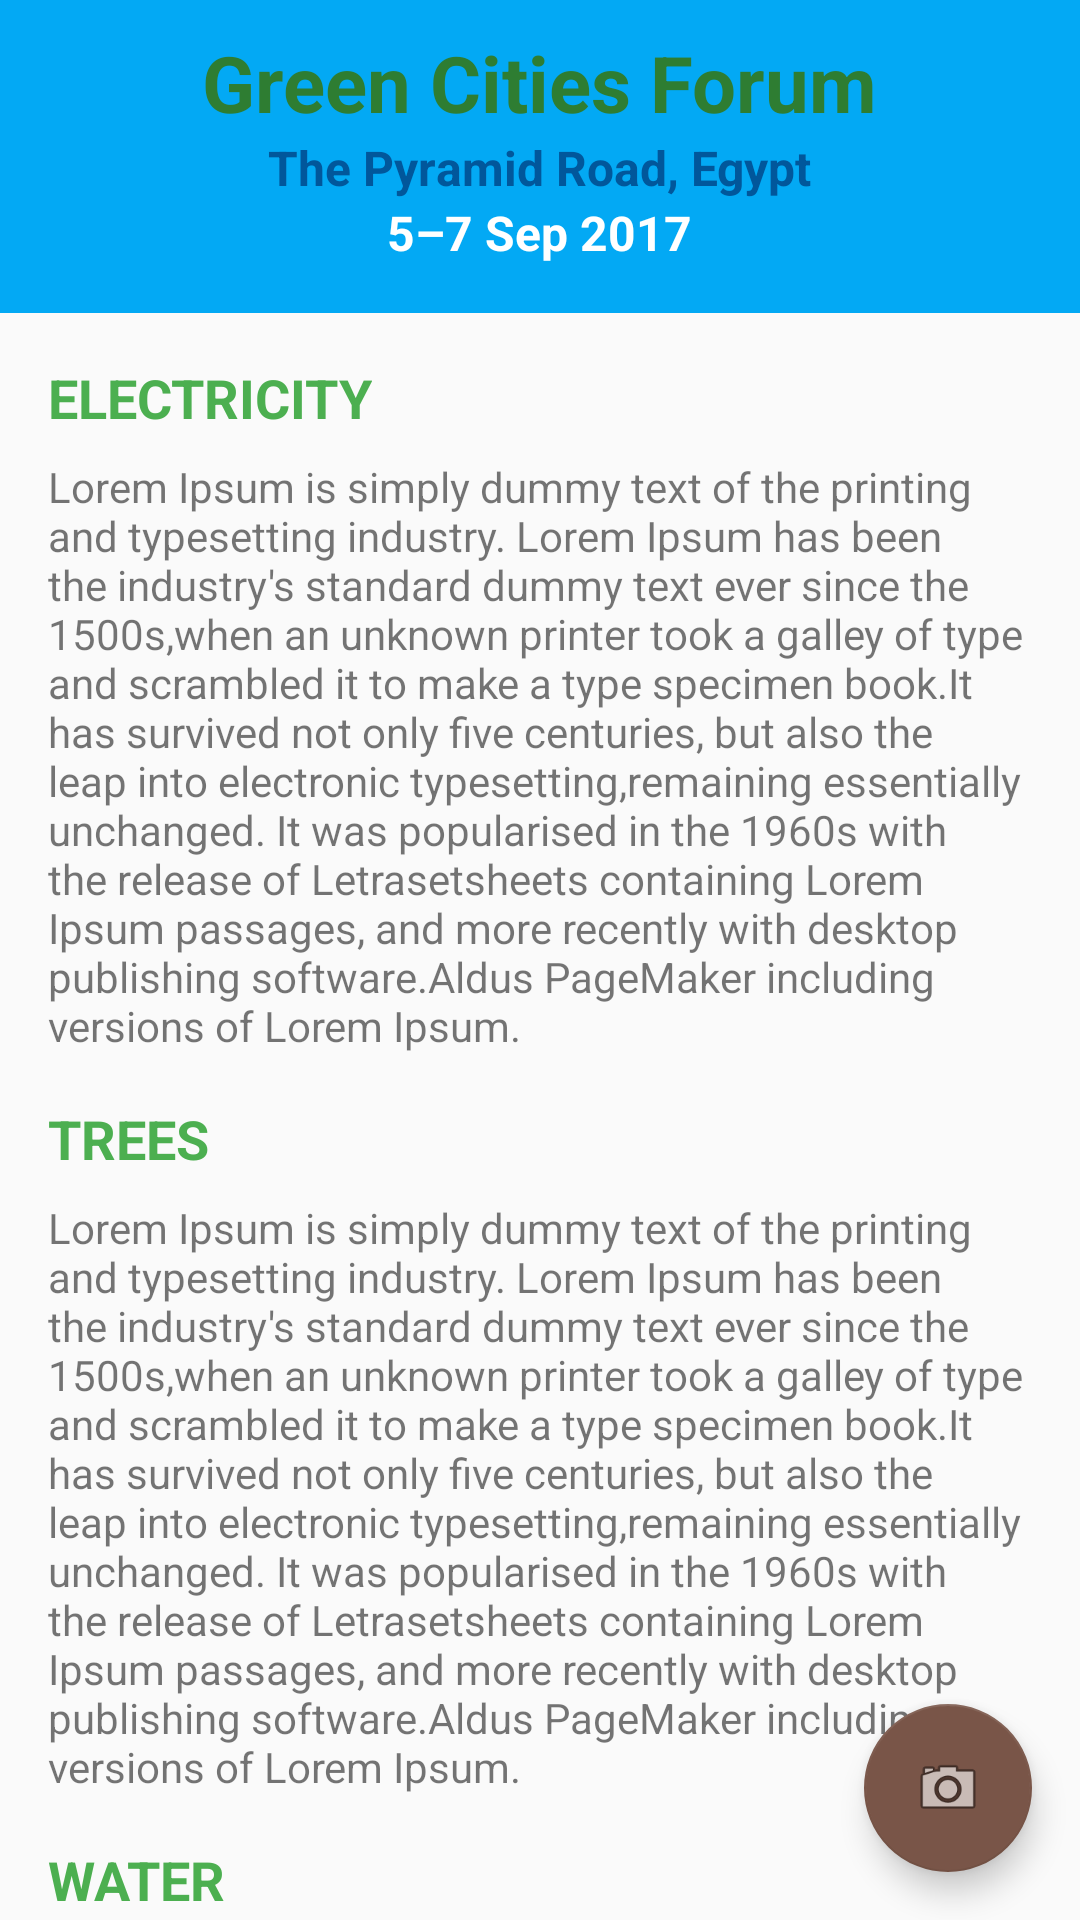

Named icons in this screenshot (1080 × 1920) and their centers, (x=x, y=y):
camera: (x=948, y=1788)
